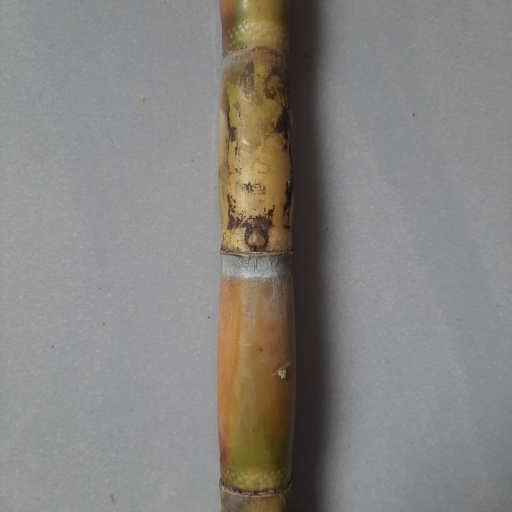Bud: (245, 228, 267, 252)
